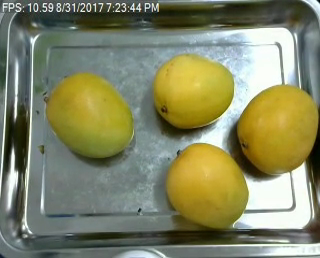Mango: (45, 71, 133, 158), (165, 141, 248, 227), (238, 85, 319, 172), (153, 53, 233, 128)
